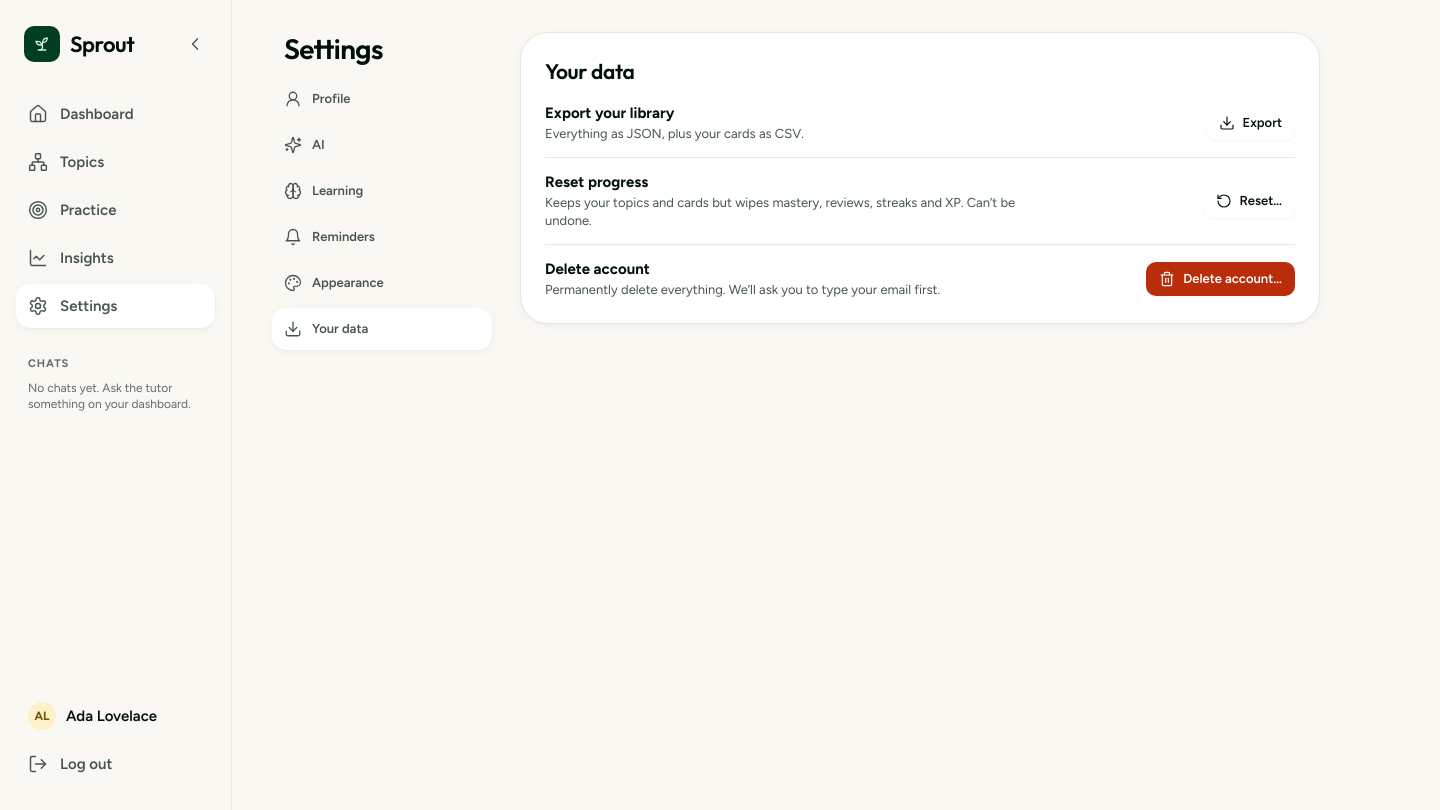
it: DataSettings › keeps the reset dialog open with the reason when it fails
Click the button with test id "reset": (1249, 201) x1=1202 y1=184 x2=1295 y2=218
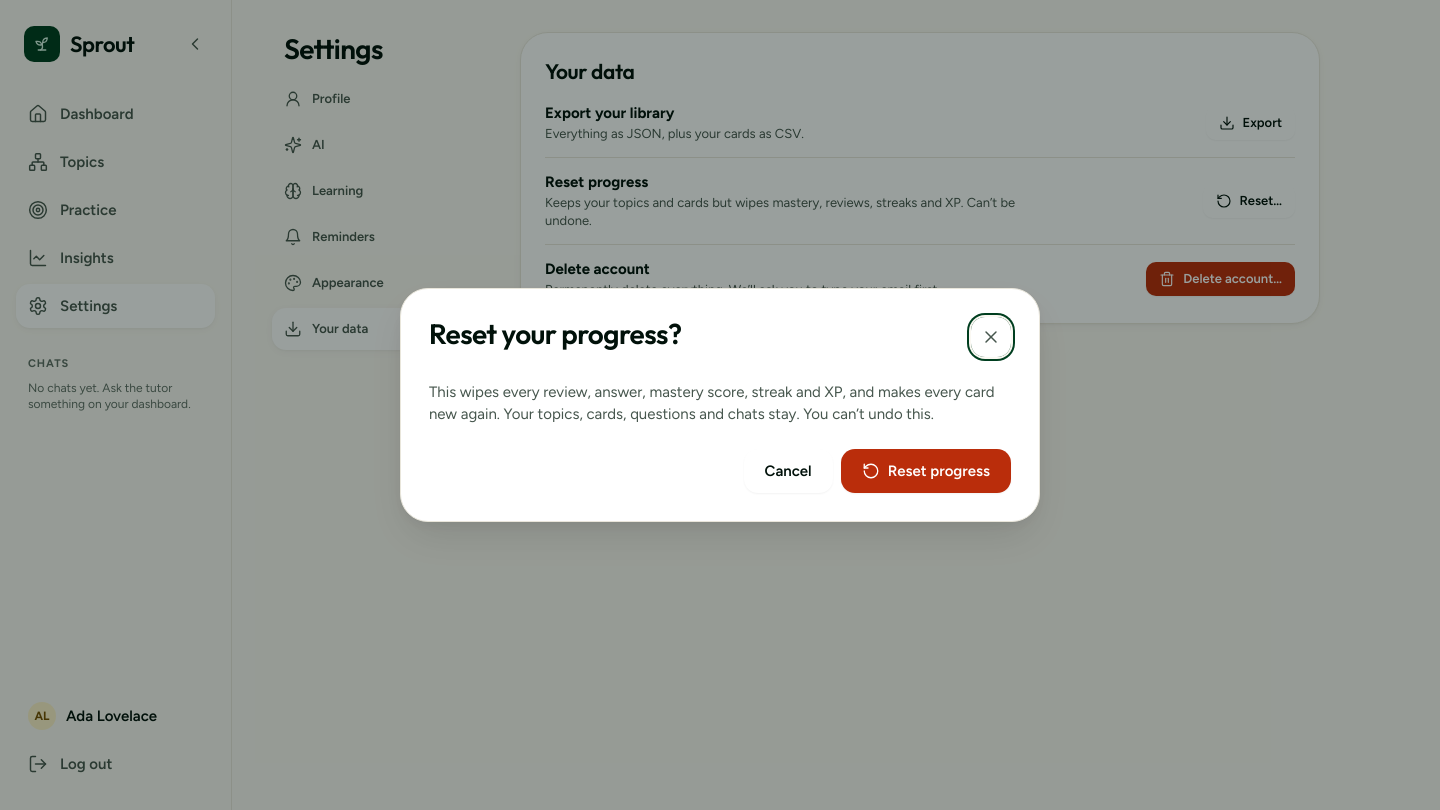
Click the button with test id "confirm-reset": (926, 471) x1=841 y1=449 x2=1011 y2=493
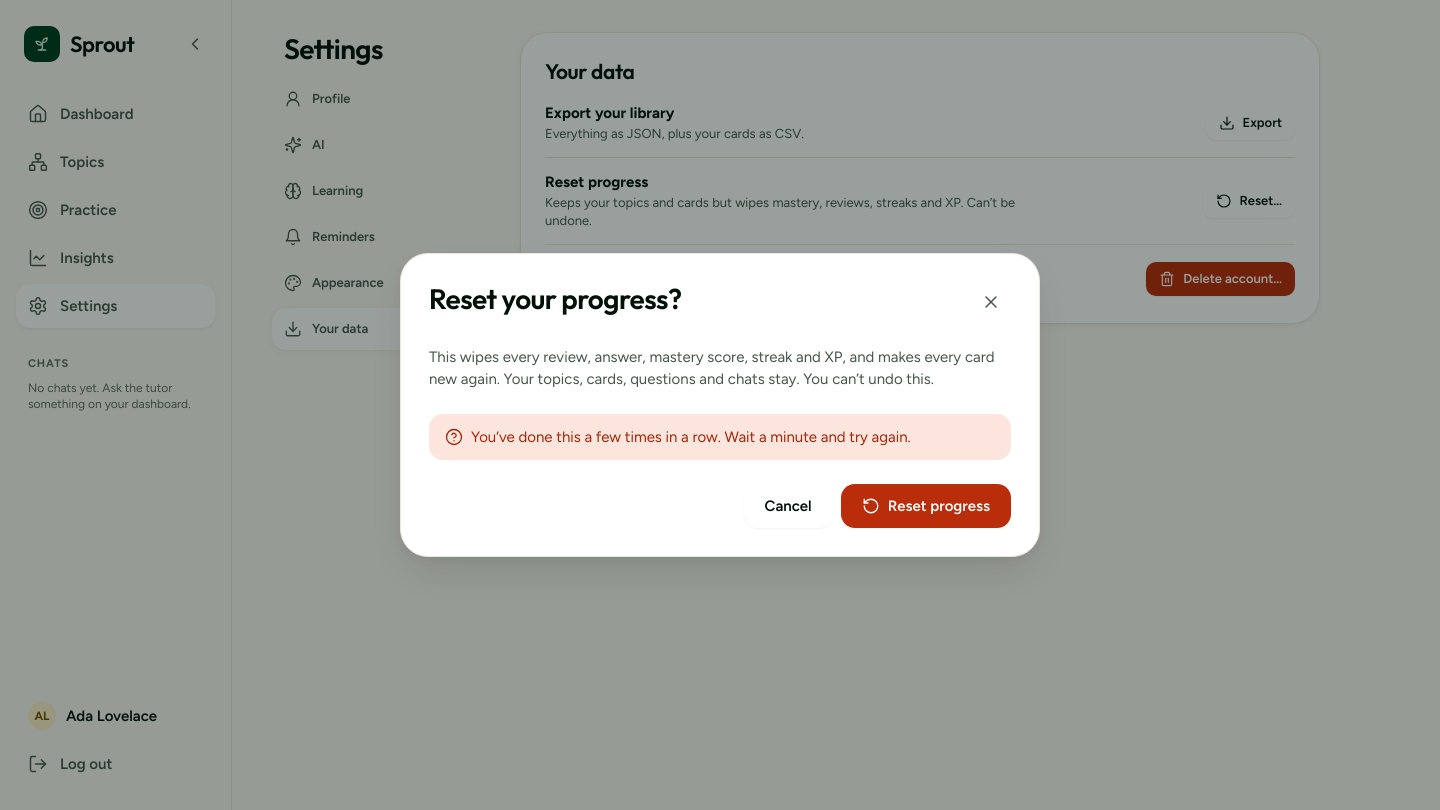
Now the button with test id "confirm-reset" is shown, box x1=841 y1=484 x2=1011 y2=528
Now the message with test id "form-error" shows "Wait a minute", box x1=471 y1=428 x2=911 y2=446
